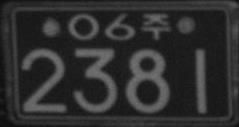0: (67, 13, 99, 40)
1: (181, 48, 219, 114)
2: (21, 47, 67, 113)
3: (72, 47, 117, 114)
6: (104, 13, 135, 41)
8: (125, 47, 171, 114)
주: (141, 11, 172, 40)
